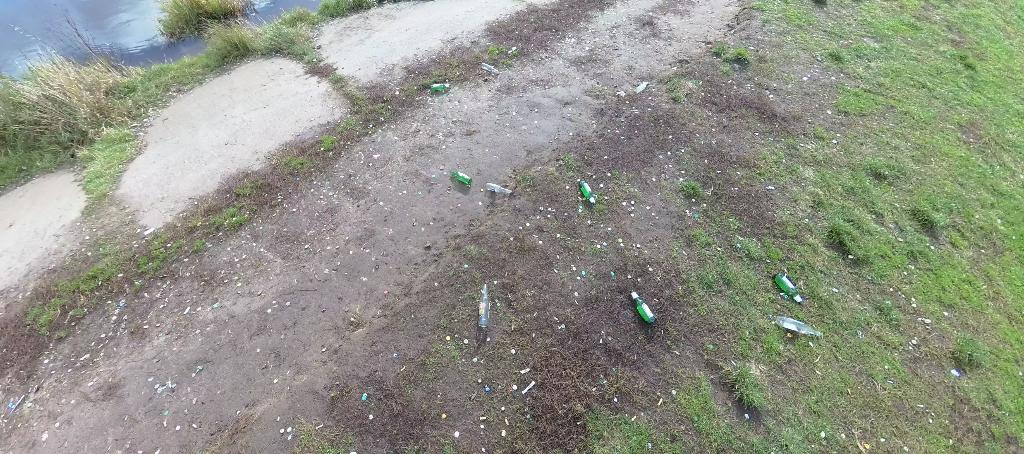garbage: (773, 315, 823, 342), (775, 267, 804, 307), (630, 287, 655, 327), (577, 177, 599, 211), (476, 282, 491, 331), (452, 168, 471, 187)
